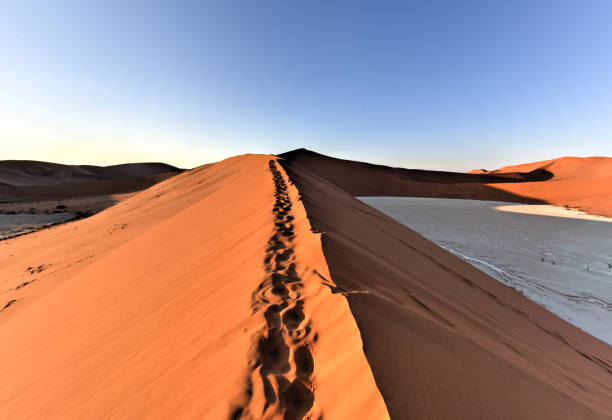human_foot_print: (242, 160, 339, 417)
